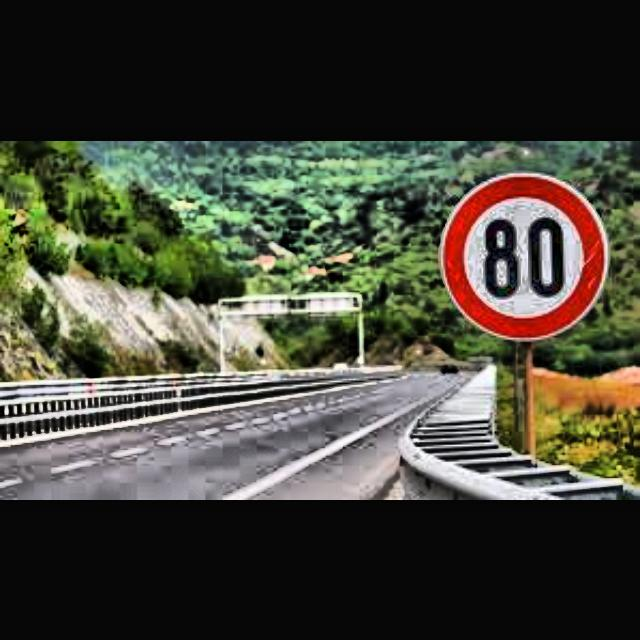speed_80: (446, 176, 604, 340)
